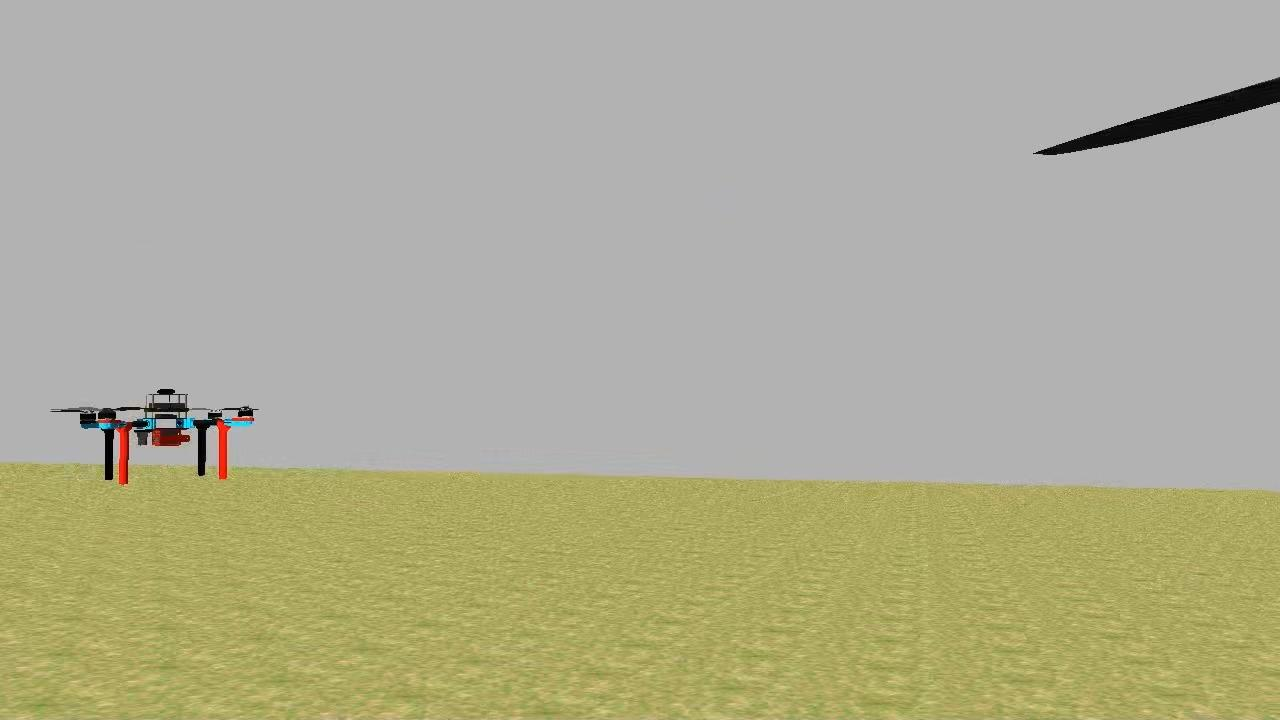UAV: (78, 375, 262, 498)
